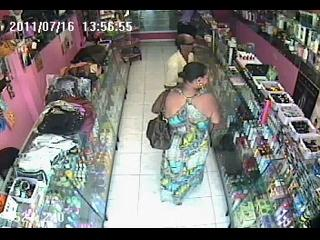Normal: (150, 62, 222, 206), (163, 33, 196, 90), (146, 99, 172, 151)
